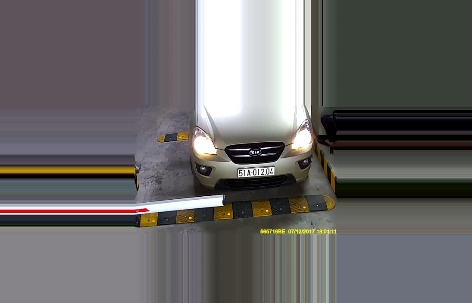plate: (235, 164, 276, 175)
